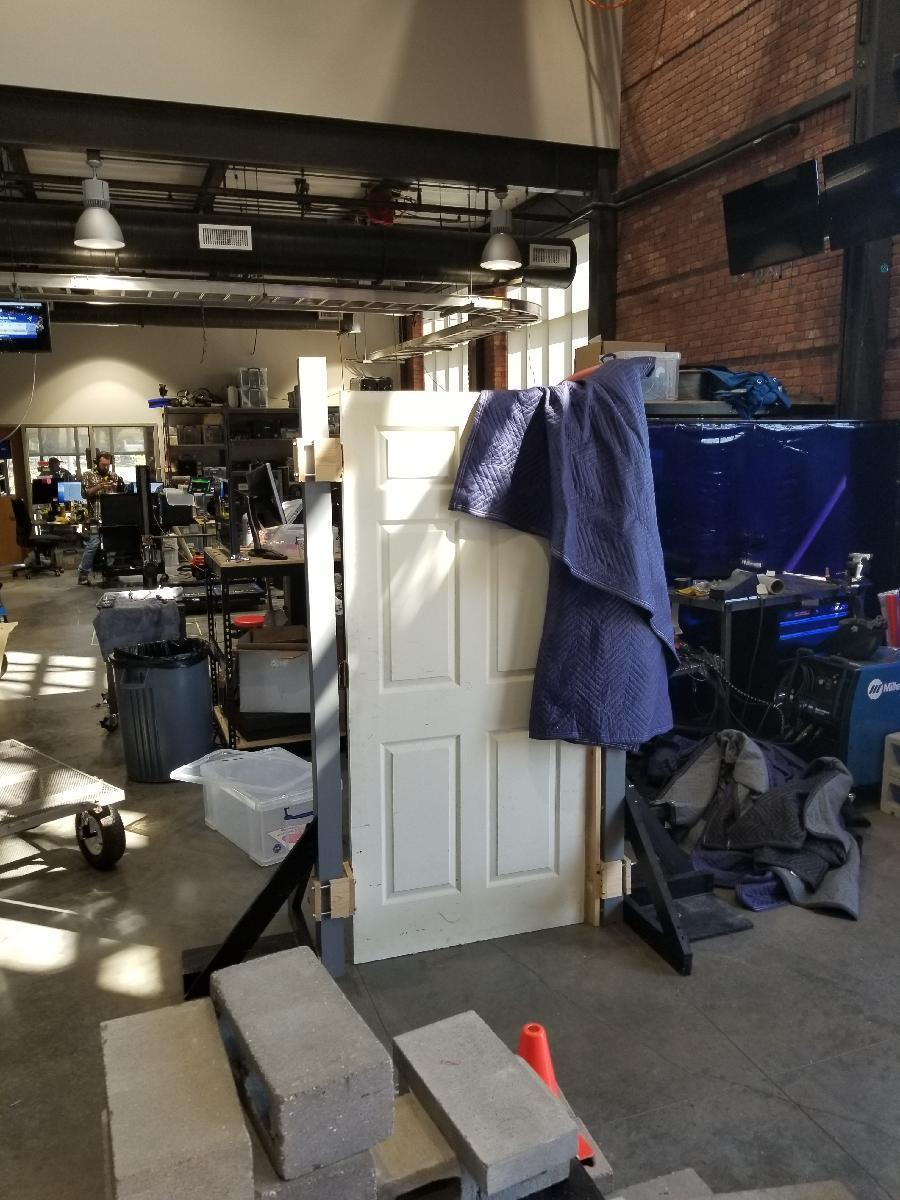door: (346, 388, 596, 949)
